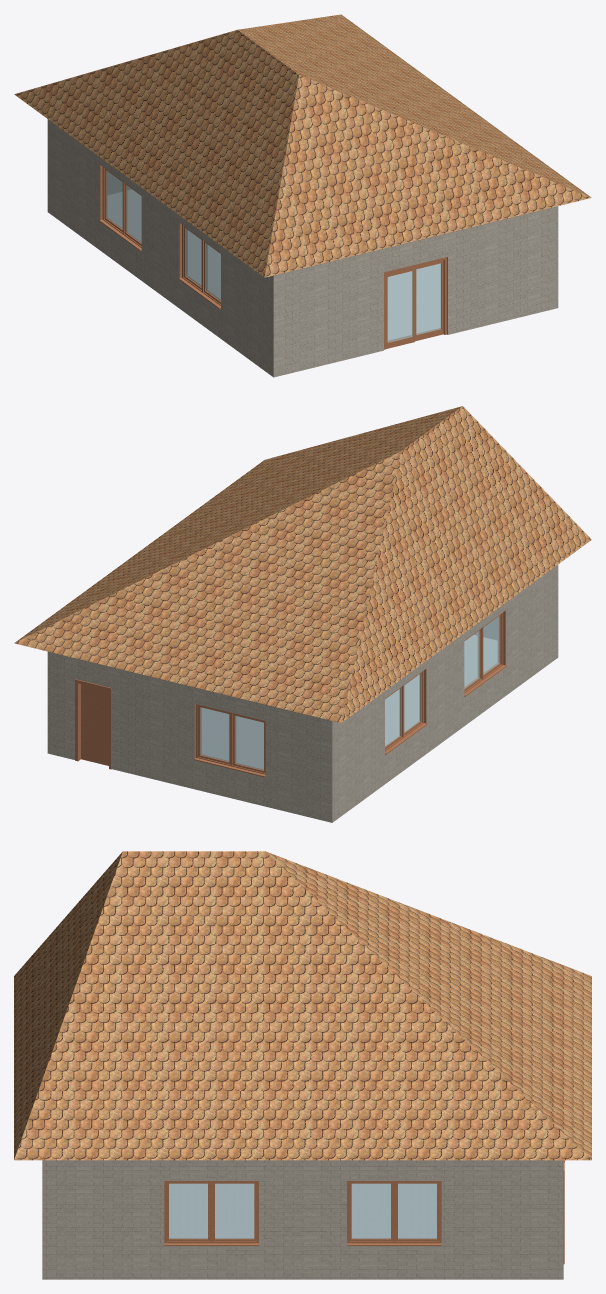
Rendered from telhado43.dae.
3 renders of one model, top to bottom at view 1: azimuth 30°, elevation 25°; view 2: azimuth 150°, elevation 25°; view 3: azimuth 270°, elevation 25°, orthographic. The views are drawn at different scales.
Parts seen in each view (by area): view 1: SketchUp (×11); view 2: SketchUp (×12); view 3: SketchUp (×11).
Part boxes in pixels (x1,y1,x2,y2): SketchUp (×11): [14, 14, 591, 377]; SketchUp (×12): [14, 406, 591, 822]; SketchUp (×11): [14, 851, 591, 1279].
Bounding box in the file's own units: 362 × 480 × 277.
Materials: 11 (6 with a texture image).
